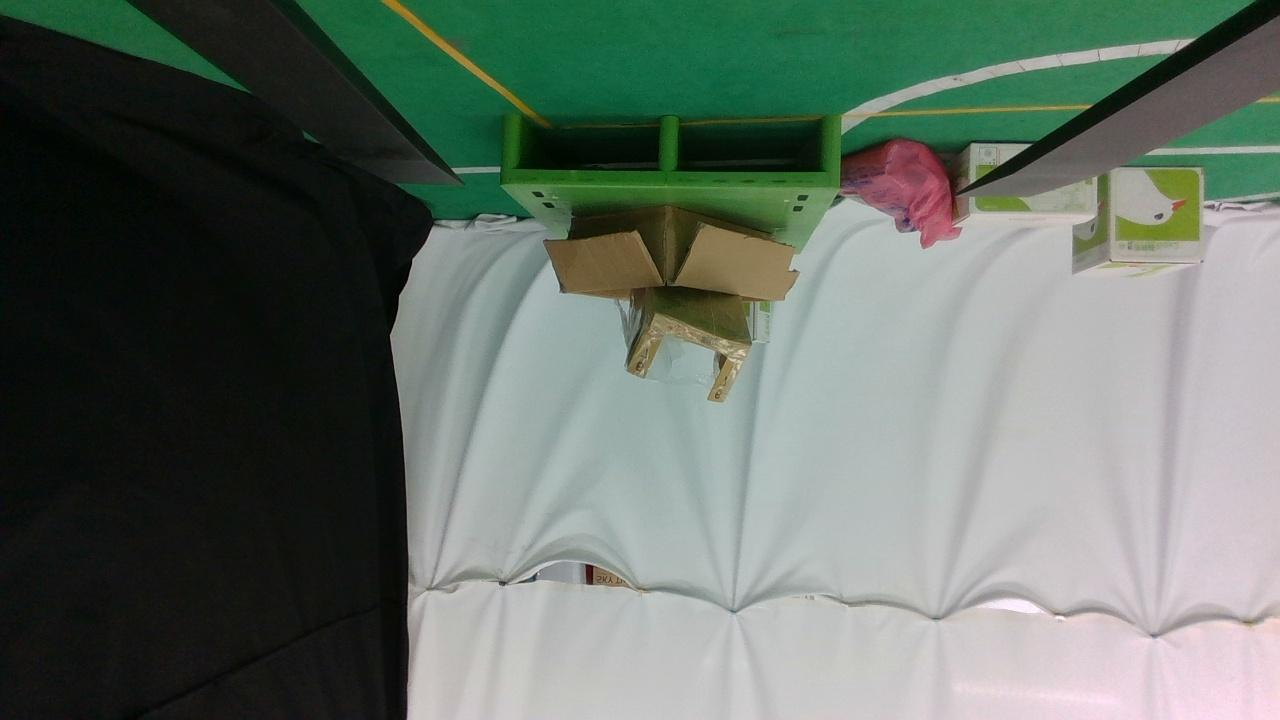Pallet: (502, 115, 842, 192)
